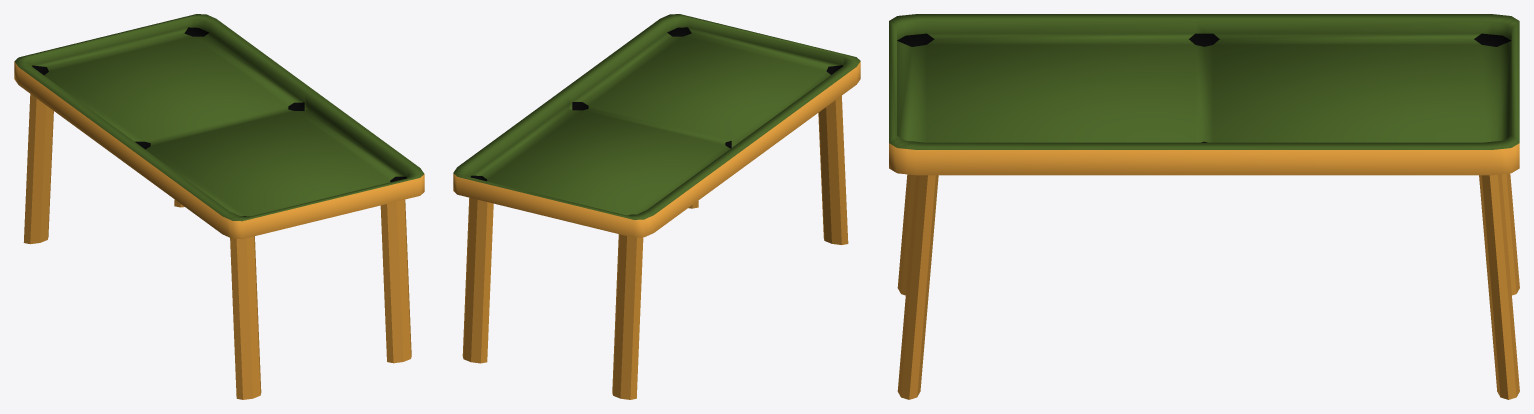
Rendered from Pooltable.fbx.
3 renders of one model, left to right at view 1: azimuth 30°, elevation 25°; view 2: azimuth 150°, elevation 25°; view 3: azimuth 270°, elevation 25°, orthographic. The views are drawn at different scales.
Visible parts, largest first — view 1: Pooltable; view 2: Pooltable; view 3: Pooltable.
Boxes of the visible parts, x1=… form: Pooltable: x1=14, y1=14, x2=424, y2=399; Pooltable: x1=453, y1=14, x2=860, y2=399; Pooltable: x1=889, y1=14, x2=1519, y2=399.
Bounding box in the file's own units: 99.3 × 87.76 × 195.
